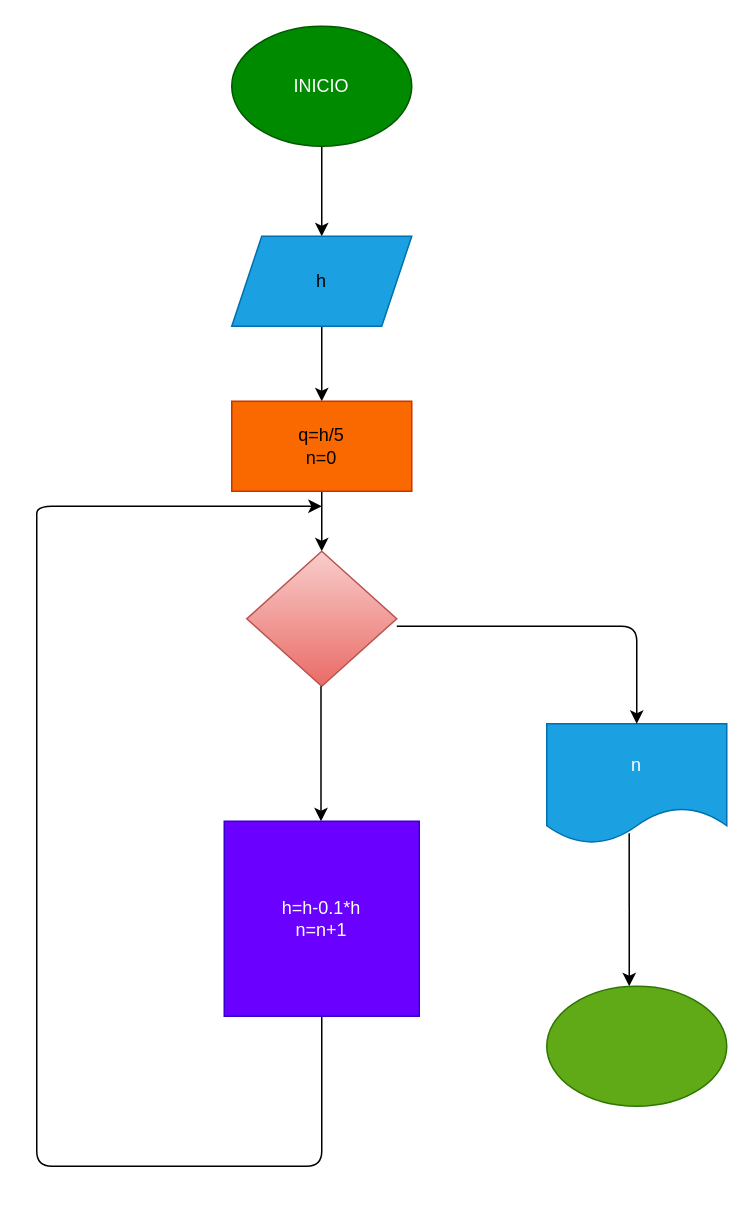
Image size: 753x1205. Some labels were removed from this diagram. The shapes that lost their labels are listed below. From the top down, each one's box as (x1, y1, x2, y2) in pixels, then its label:
(245, 550, 397, 686): H>Q
(545, 985, 727, 1106): FIN
